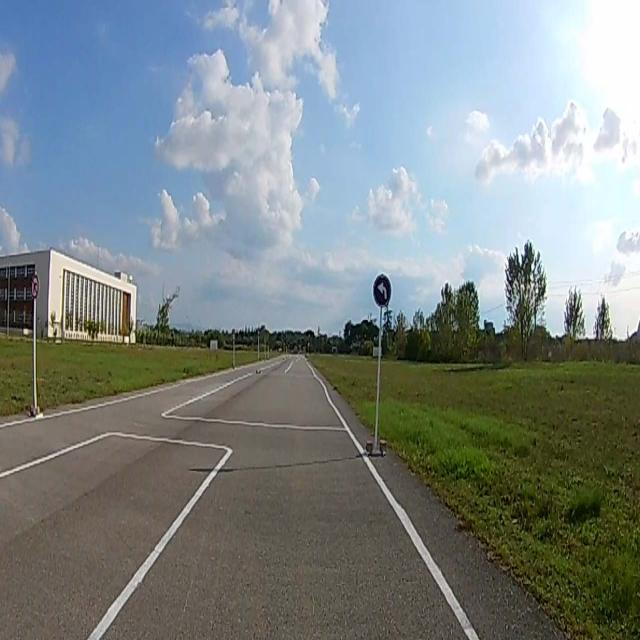sagadonulmez: (31, 276, 39, 300)
sol: (374, 276, 392, 306)
